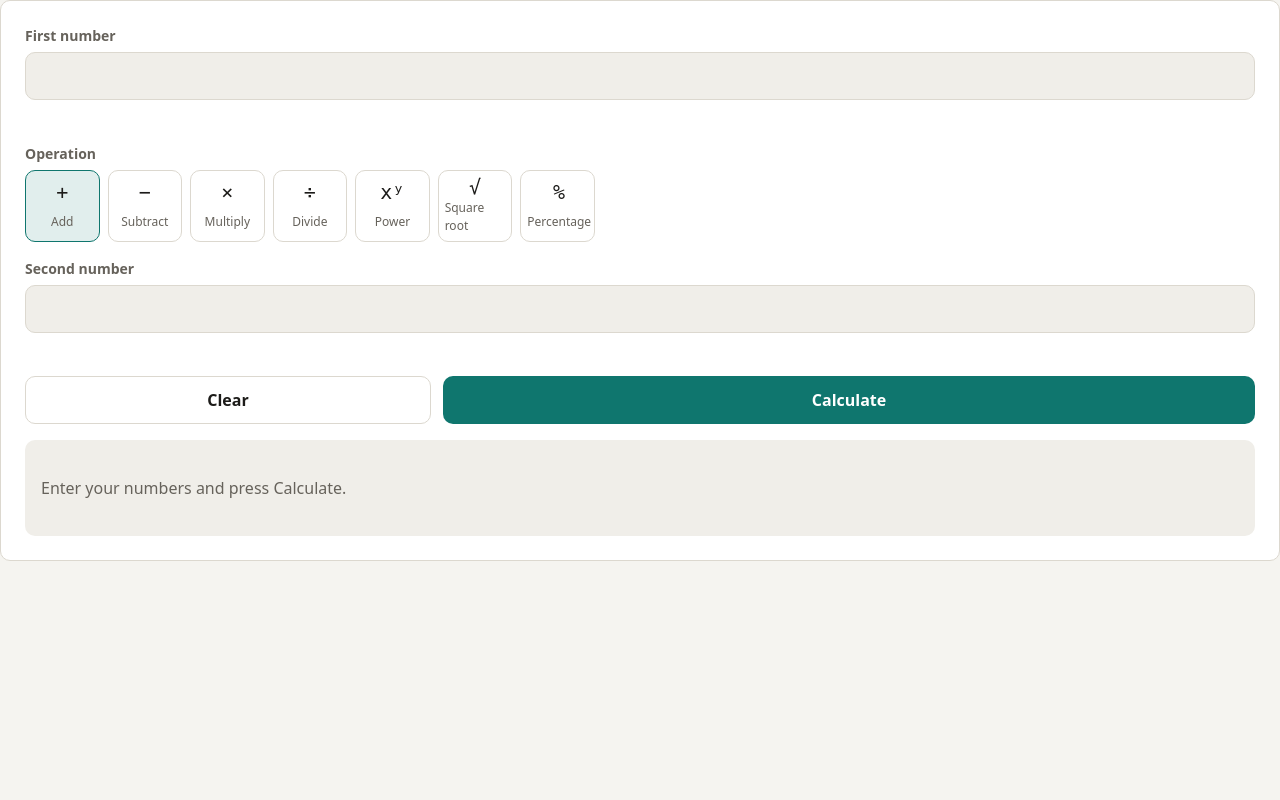
Calculator › clears inputs and result, then focuses the first field
In the field labelled "First number": {"x": 640, "y": 76} left=25, top=52, right=1255, bottom=100, type "1"
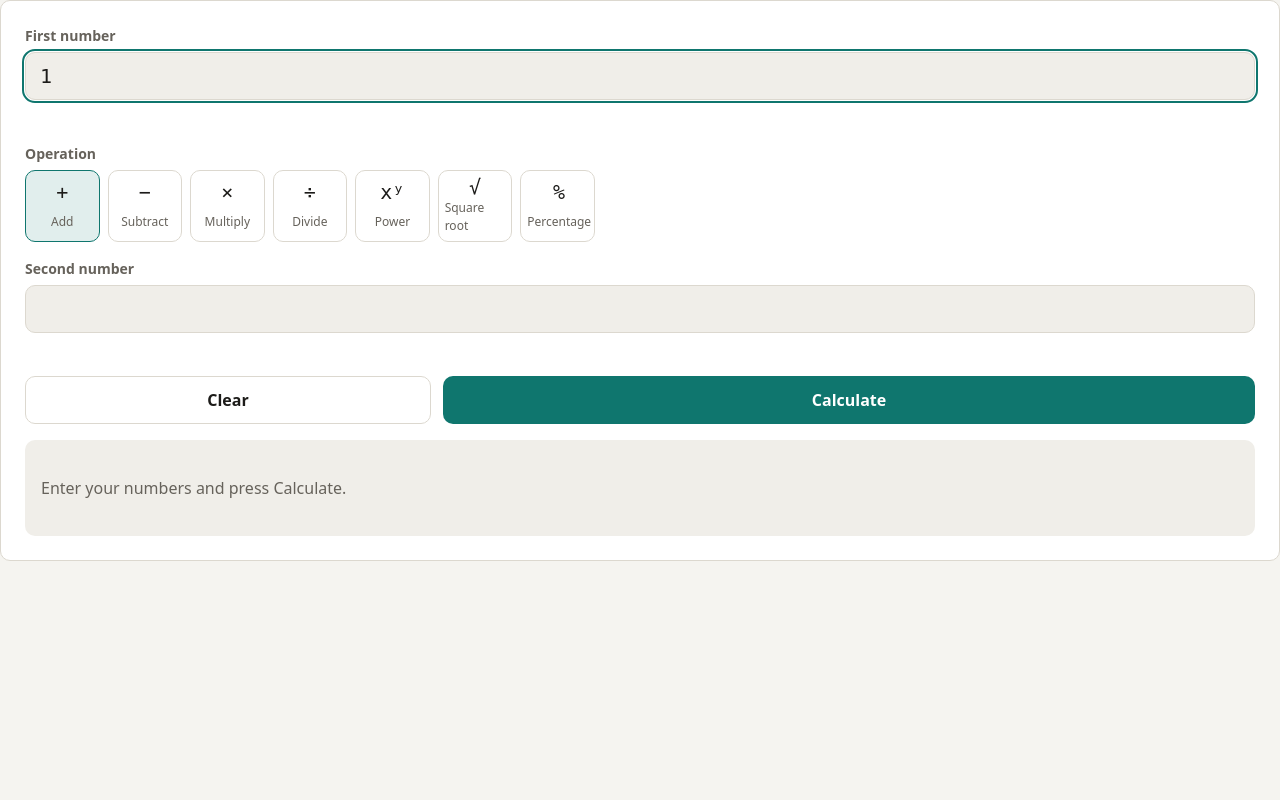
In the field labelled "Second number": {"x": 640, "y": 309} left=25, top=285, right=1255, bottom=333, type "2"
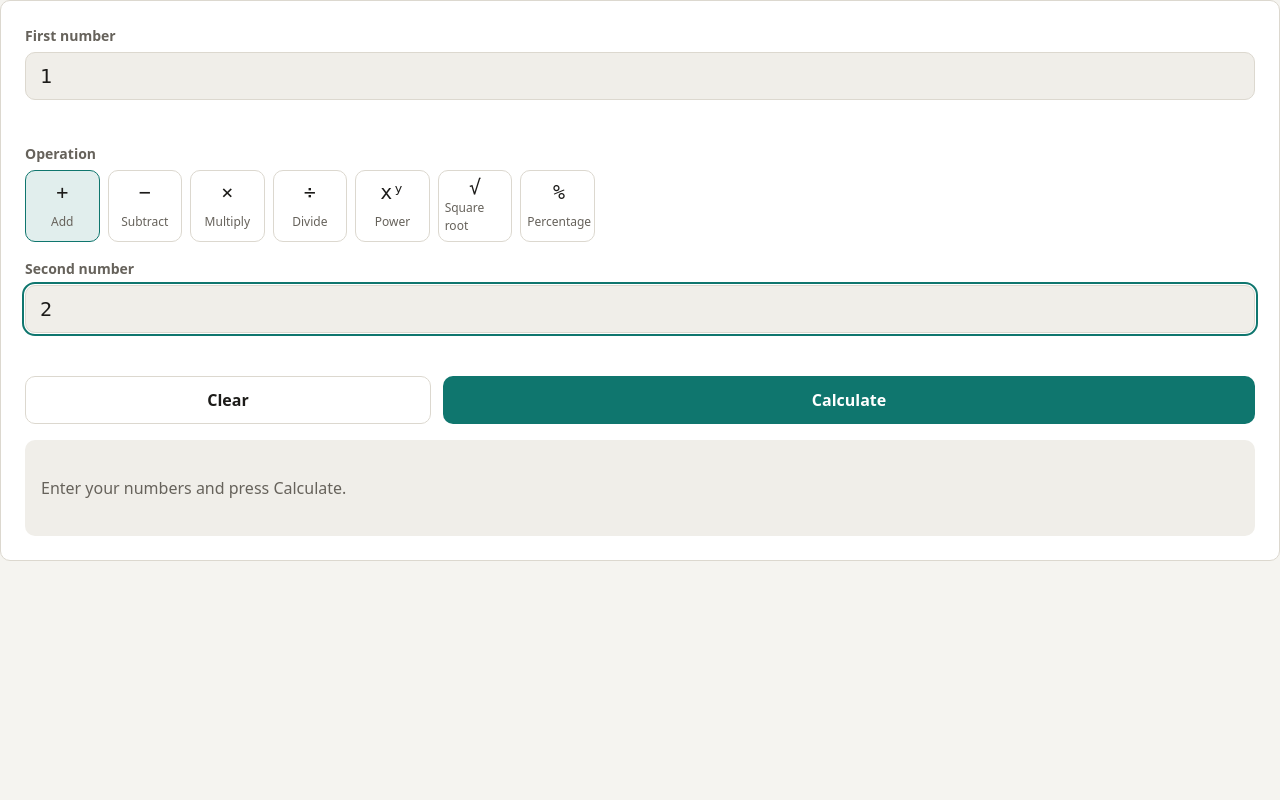
Click the button "Calculate": {"x": 849, "y": 400} left=443, top=376, right=1255, bottom=424
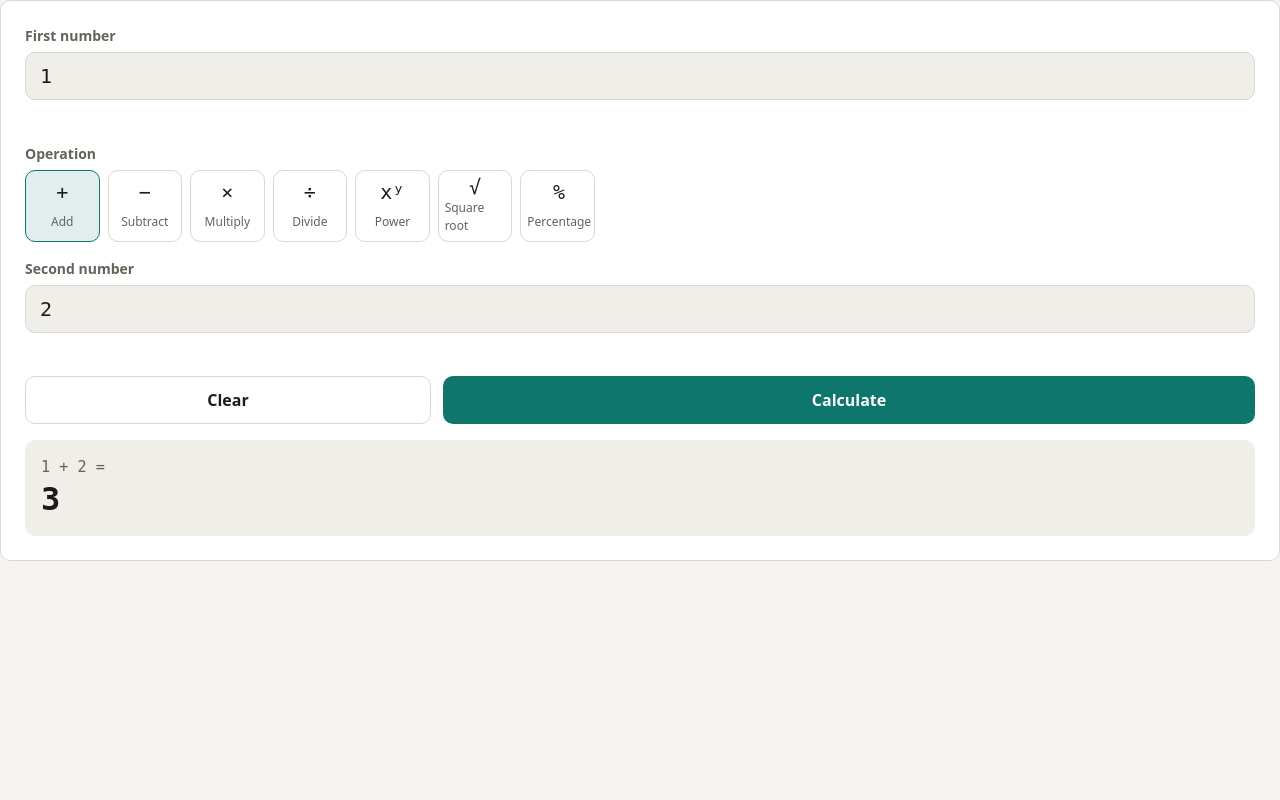
Expected: the text "1 + 2 =" is shown, left=41, top=458, right=105, bottom=476
Click the button "Clear": {"x": 228, "y": 400} left=25, top=376, right=431, bottom=424
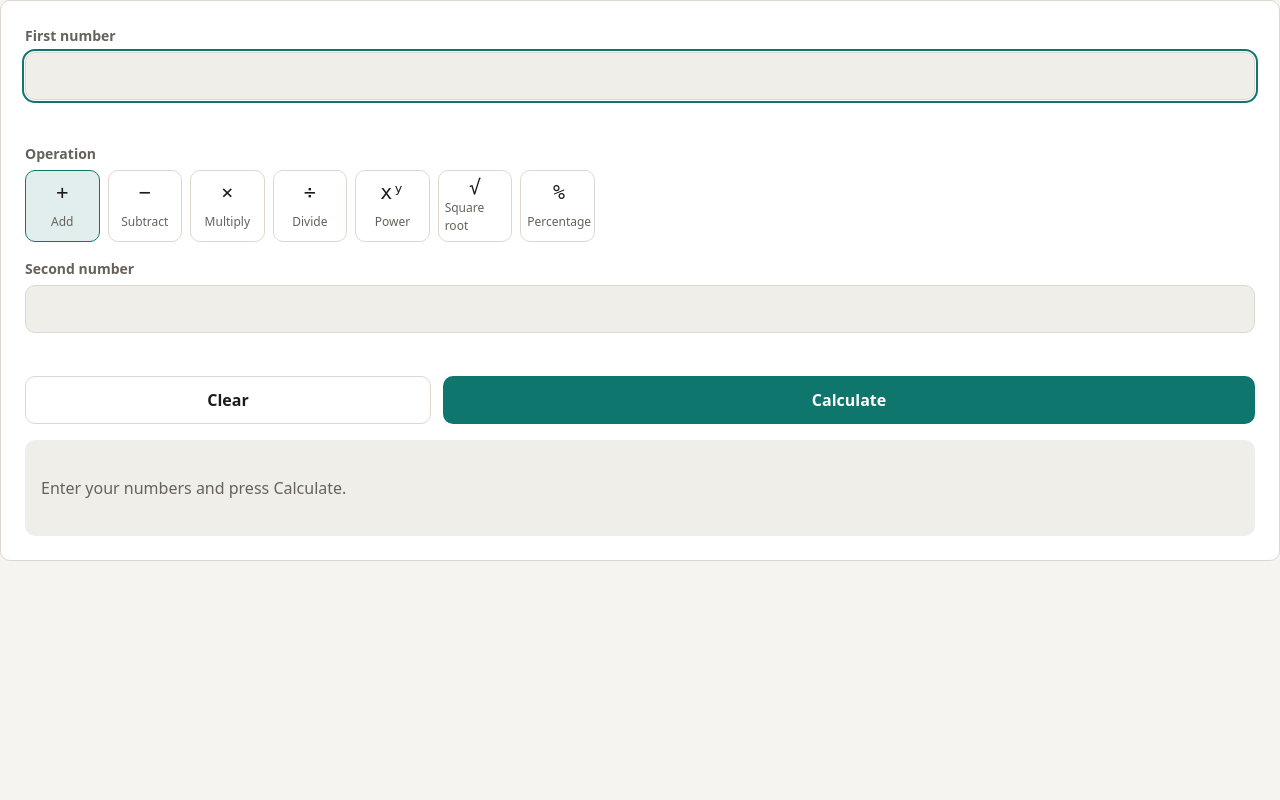
Expected: the field labelled "First number" is empty, left=25, top=52, right=1255, bottom=100
Expected: the field labelled "Second number" is empty, left=25, top=285, right=1255, bottom=333
Expected: the text "Enter your numbers and press Calculate." is shown, left=41, top=477, right=346, bottom=499
